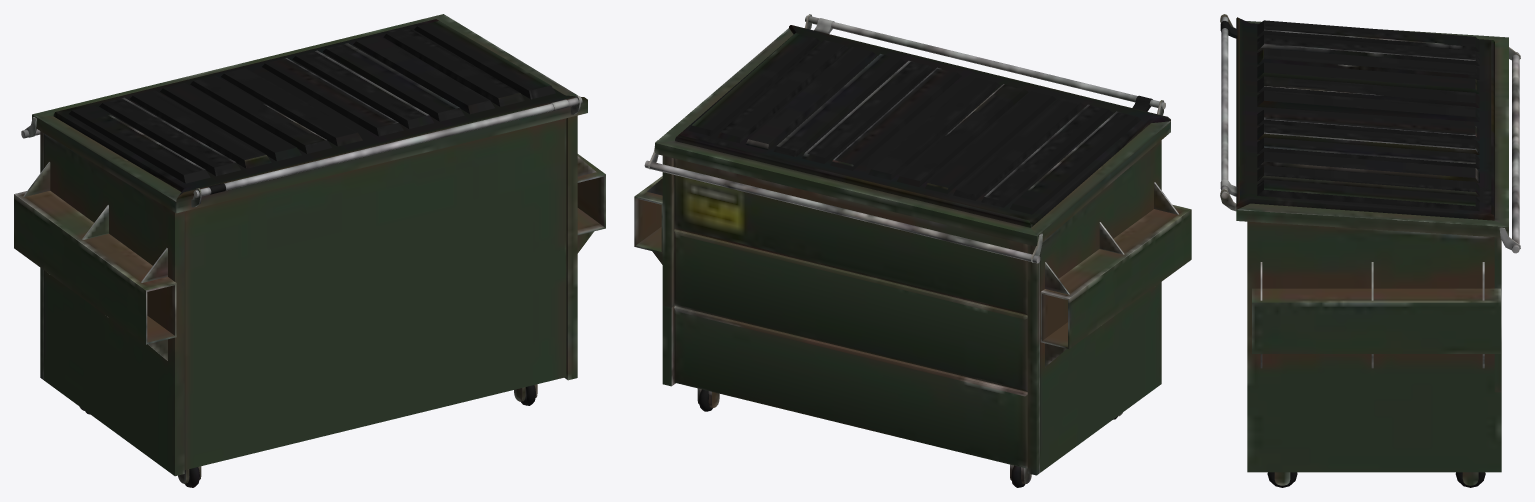
File: Dumpster.glb
3 views of the same model, side by side, from view 1: azimuth 30°, elevation 25°; view 2: azimuth 150°, elevation 25°; view 3: azimuth 270°, elevation 25° (orthographic). The views are drawn at different scales.
Parts seen in each view (by area): view 1: Torus_3; view 2: Torus_3; view 3: Torus_3.
Part boxes in pixels (x1,y1,x2,y2): Torus_3: (14, 14, 605, 487); Torus_3: (634, 14, 1191, 487); Torus_3: (1220, 14, 1520, 487).
Bounding box in the file's own units: 2.03 × 1.37 × 1.21.
Materials: 1 (1 with a texture image).
